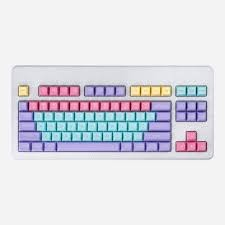keyboard: (12, 67, 217, 161)
